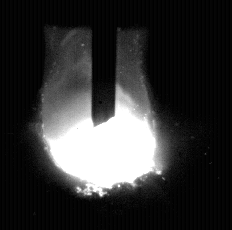arame: (93, 0, 117, 127)
poca: (44, 0, 157, 230)
